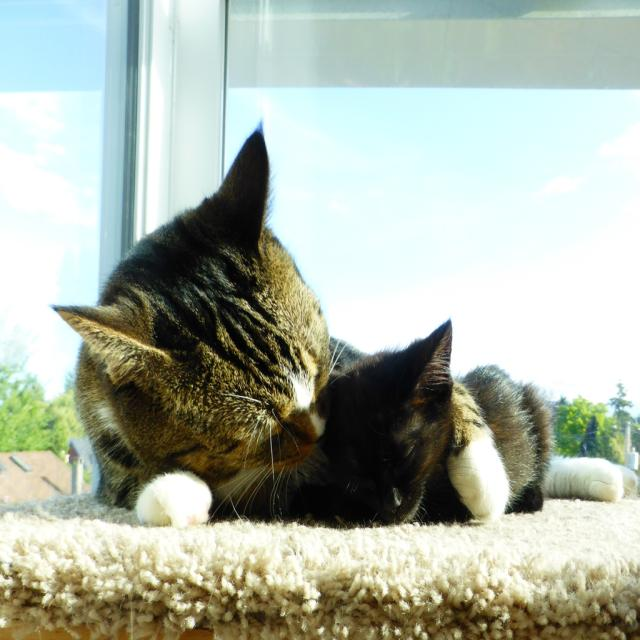Cat: (49, 116, 629, 524)
